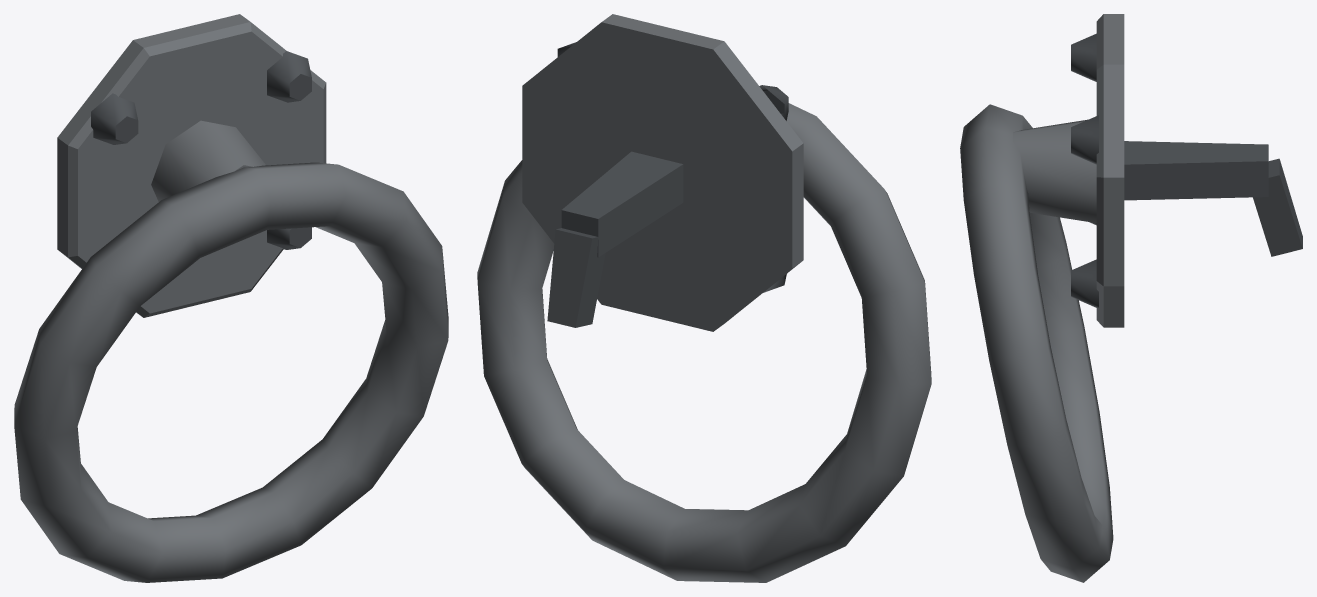
File: SM_LPD_Door_DoorFittingRingPull_01.fbx
3 renders of one model, left to right at view 1: azimuth 30°, elevation 25°; view 2: azimuth 150°, elevation 25°; view 3: azimuth 270°, elevation 25°, orthographic. The views are drawn at different scales.
Parts seen in each view (by area): view 1: SM_LPD_Door_DoorFittingRingPull_01; view 2: SM_LPD_Door_DoorFittingRingPull_01; view 3: SM_LPD_Door_DoorFittingRingPull_01.
Boxes of the visible parts, bbox=[...] form: SM_LPD_Door_DoorFittingRingPull_01: bbox=[14, 14, 448, 582]; SM_LPD_Door_DoorFittingRingPull_01: bbox=[477, 14, 931, 582]; SM_LPD_Door_DoorFittingRingPull_01: bbox=[960, 14, 1302, 582].
Bounding box in the file's own units: 0.21 × 0.2471 × 0.1474.
